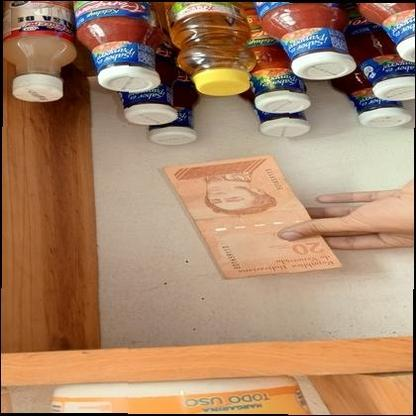twenty-front-vef: (162, 154, 343, 281)
